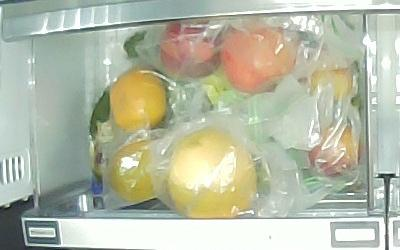apple_vinyl: (221, 23, 298, 94), (160, 21, 222, 78)
grapefruit_vinyl: (167, 129, 257, 218)
persimmon_vinyl: (111, 68, 167, 132), (109, 139, 159, 204)
prune_vinyl: (309, 124, 360, 176)
